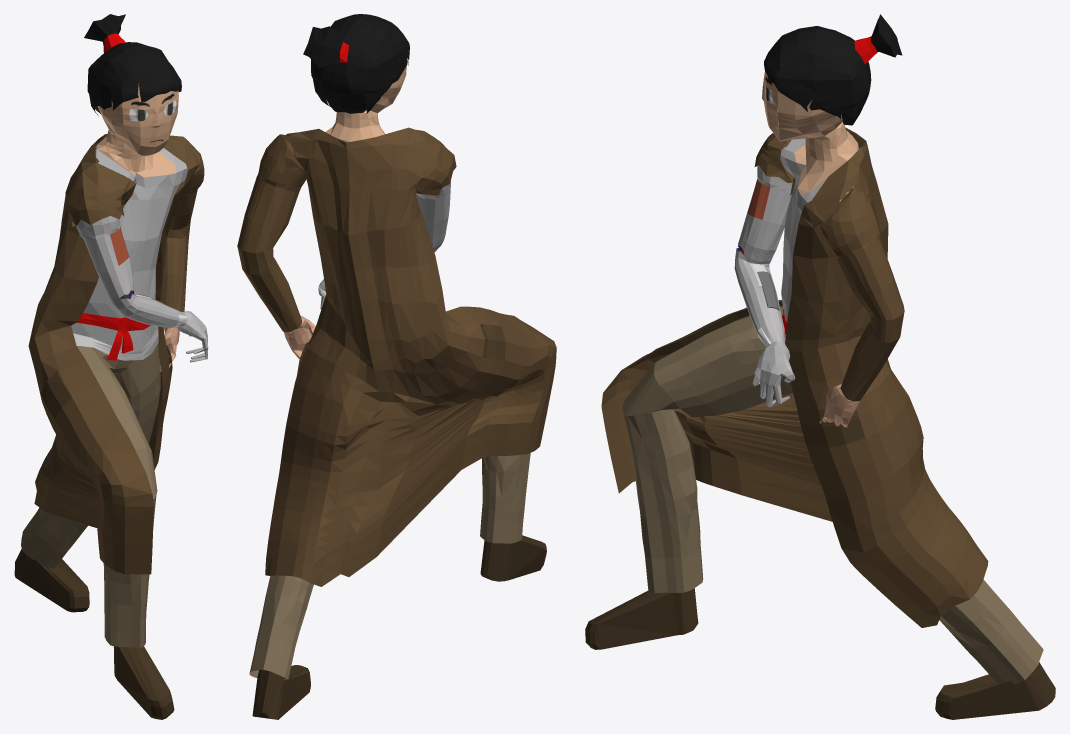
The model's file is One_RR_000004.obj.
3 renders of one model, left to right at view 1: azimuth 30°, elevation 25°; view 2: azimuth 150°, elevation 25°; view 3: azimuth 270°, elevation 25°, orthographic. The views are drawn at different scales.
Visible parts, largest first — view 1: Hair_Cube.004; view 2: Hair_Cube.004; view 3: Hair_Cube.004.
Part boxes in pixels (x1=…): Hair_Cube.004: x1=14, y1=14, x2=208, y2=719; Hair_Cube.004: x1=237, y1=14, x2=556, y2=719; Hair_Cube.004: x1=585, y1=14, x2=1055, y2=719.
Size of the model in its own units: 1.21 by 3.65 by 2.23.
